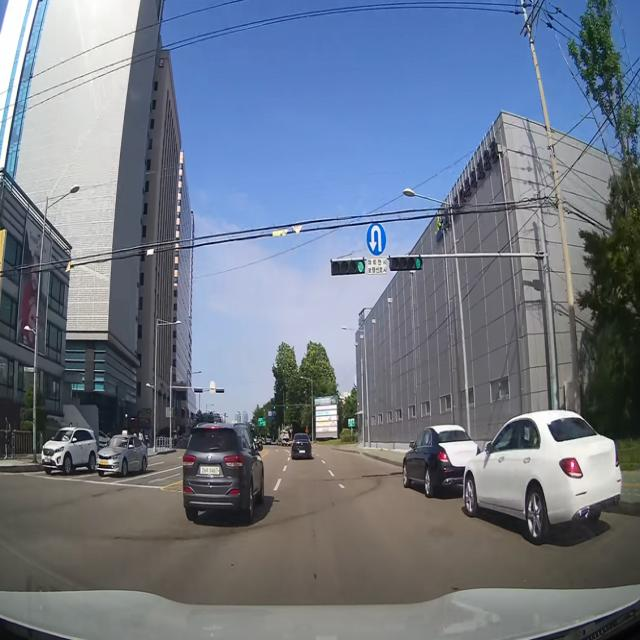Green Light: (356, 260, 365, 274), (414, 256, 422, 270)
